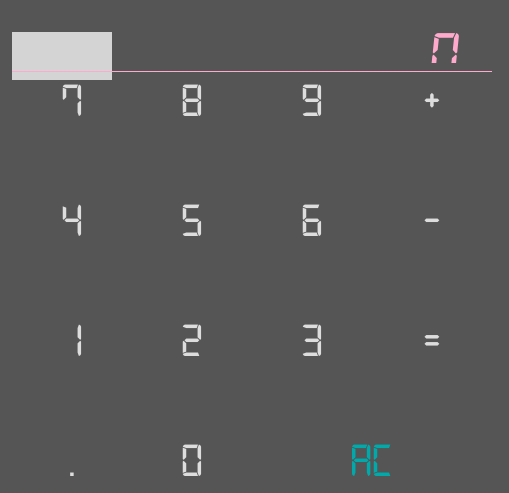
it: App › handles number clicks correctly
The width and height of the screenshot is (509, 493).
Click the button "1" at [72, 380], box [12,320,132,440]
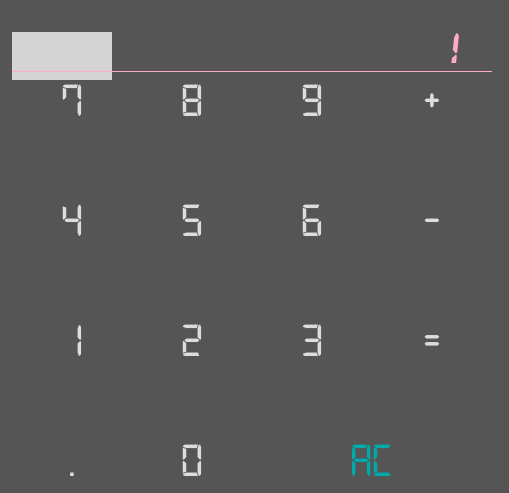
Click the button "2" at [192, 380], box [132,320,252,440]
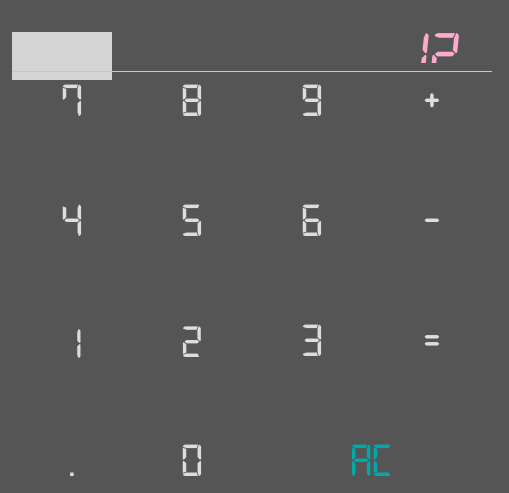
Click the button "3" at [312, 380], box [252,320,372,440]
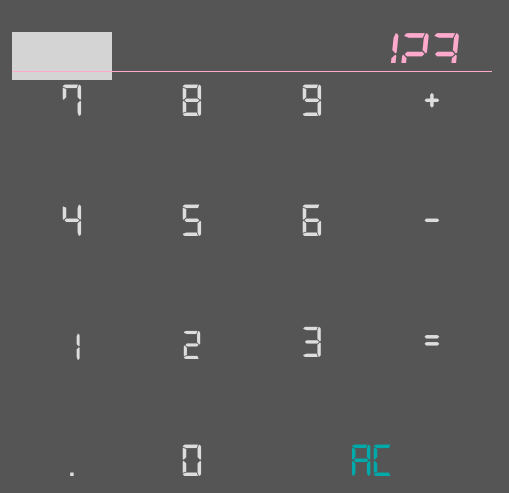
Result: the field holds "123" at [12,12,492,72]
